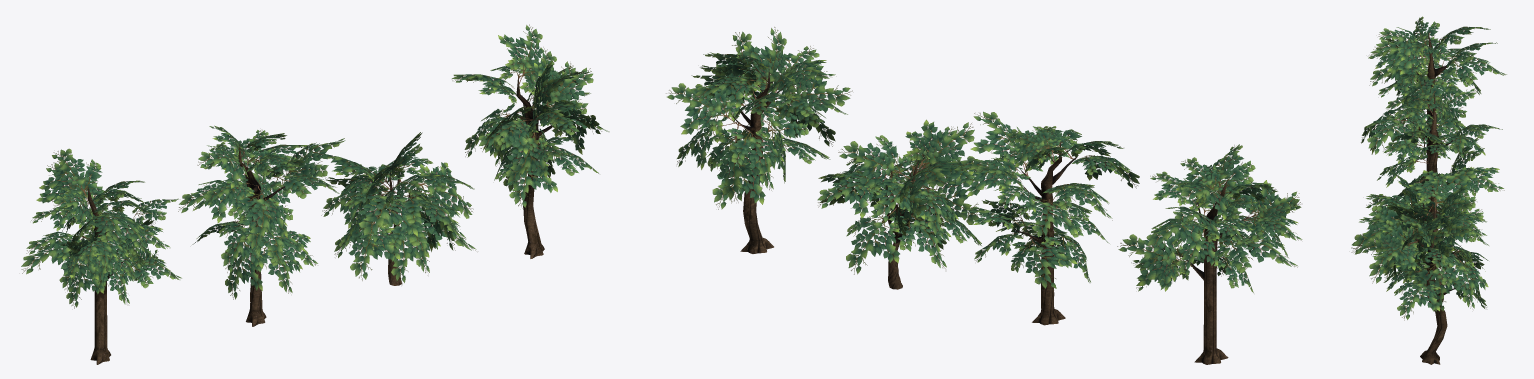
File: treeJosh_with leaves.FBX
3 views of the same model, side by side, from view 1: azimuth 30°, elevation 25°; view 2: azimuth 150°, elevation 25°; view 3: azimuth 270°, elevation 25° (orthographic). The views are drawn at different scales.
Parts seen in each view (by area): view 1: Plane038, Plane053, Plane016, Plane069, Plane092, Plane097, Cylinder001, Cylinder003, Plane073, Plane065, Plane048, Plane090 (+43 smaller); view 2: Cylinder001, Plane067, Plane061, Cylinder002, Plane087, Plane068, Plane024, Plane106, Cylinder003, Plane084, Plane028, Plane085 (+46 smaller); view 3: Plane086, Plane083, Cylinder003, Plane105, Plane055, Plane036, Plane095, Plane030, Plane098, Plane089, Plane031, Plane097 (+60 smaller).
Boxes of the visible parts, x1,y1,x2,y2 form: Plane038: (228,186,287,255); Plane053: (344,187,417,242); Plane016: (39,148,104,201); Plane069: (339,215,400,280); Plane092: (497,117,548,188); Plane097: (498,24,548,91); Cylinder001: (78,187,134,364); Cylinder003: (516,76,553,258); Plane073: (392,191,465,239); Plane065: (401,162,473,225); Plane048: (219,215,263,272); Plane090: (478,114,538,154); Cylinder001: (1178,179,1249,364); Plane067: (838,135,911,194); Plane061: (846,208,899,274); Cylinder002: (1016,141,1078,325); Plane087: (666,81,741,134); Plane068: (911,119,974,188); Plane024: (1117,225,1191,285); Plane106: (776,60,852,127); Cylinder003: (731,69,785,253); Plane084: (707,122,770,202); Plane028: (1011,236,1077,290); Plane085: (726,122,784,190); Plane086: (1441,253,1488,308); Plane083: (1394,276,1440,320); Cylinder003: (1411,208,1460,364); Plane105: (1360,220,1417,273); Plane055: (1417,167,1476,215); Plane036: (1365,116,1413,154); Plane095: (1413,257,1464,313); Plane030: (1402,71,1447,114); Plane098: (1409,172,1460,214); Plane089: (1374,237,1418,270); Plane031: (1435,84,1476,122); Plane097: (1435,184,1476,231).
Size of the model in its own units: 2191 by 726 by 671.
